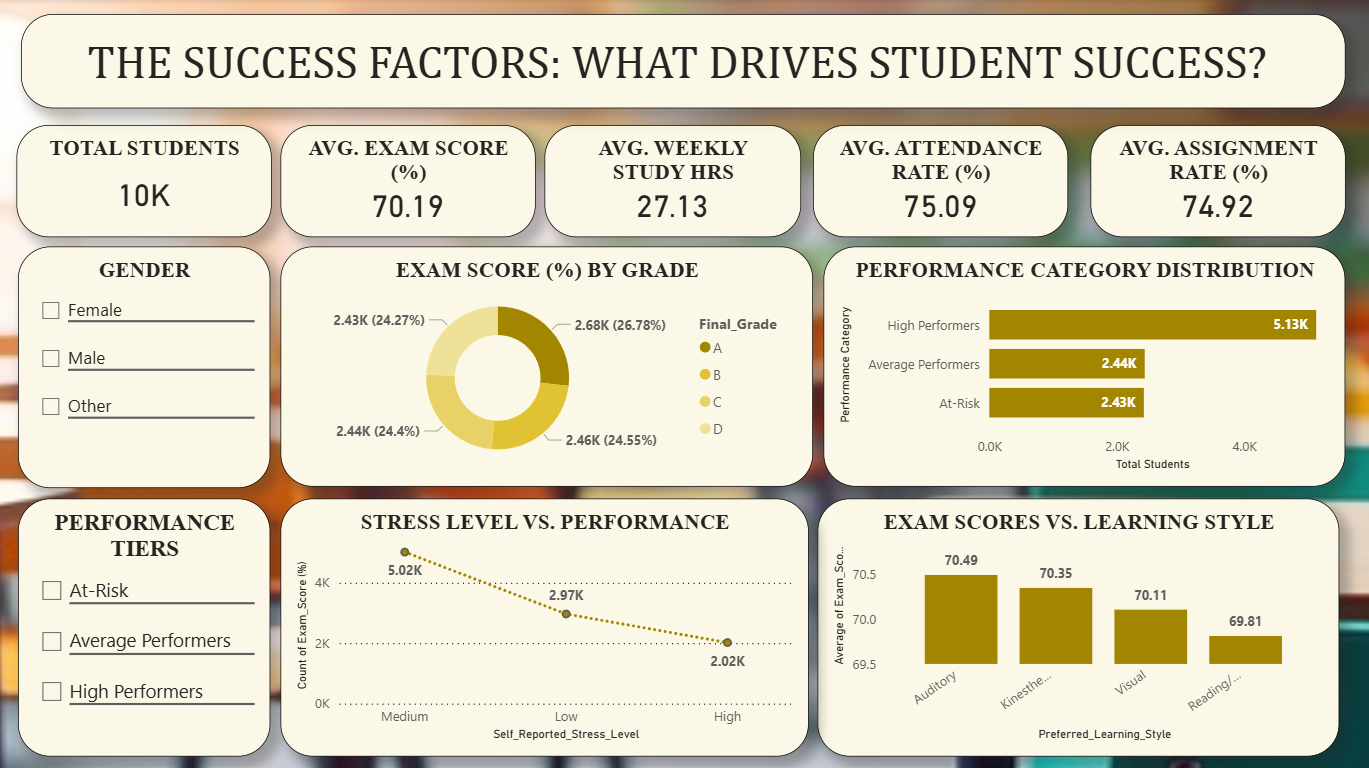

The dashboard page shown, as its layout file describes it:
{"tool":"powerbi","page":{"name":"Page 1","canvas":[1280,720],"ordinal":0},"visuals":[{"type":"card","title":"TOTAL STUDENTS","fields":{"Values":["Student Performance Dataset (Data Analyst Capstone Project -1).Total Students"]},"box":[18.2,117.5,237.8,104.9],"z":0},{"type":"card","title":"AVG. EXAM SCORE (%)","fields":{"Values":["Student Performance Dataset (Data Analyst Capstone Project -1).AVG. EXAM SCORE (%)"]},"box":[264.4,117.5,237.8,104.9],"z":1000},{"type":"card","title":"AVG. WEEKLY STUDY HRS","fields":{"Values":["Avg(Student Performance Dataset (Data Analyst Capstone Project -1).Study_Hours_per_Week)"]},"box":[510.6,117.5,239.2,104.9],"z":2000},{"type":"card","title":"AVG. ASSIGNMENT RATE (%)","fields":{"Values":["Avg(Student Performance Dataset (Data Analyst Capstone Project -1).Assignment_Completion_Rate (%))"]},"box":[1019.9,117.5,237.8,104.9],"z":3000},{"type":"card","title":"AVG. ATTENDANCE RATE (%)","fields":{"Values":["Avg(Student Performance Dataset (Data Analyst Capstone Project -1).Attendance_Rate (%))"]},"box":[761.1,117.5,237.8,104.9],"z":4000},{"type":"slicer","title":"GENDER","fields":{"Values":["Student Performance Dataset (Data Analyst Capstone Project -1).Gender"]},"box":[19.6,230.8,235,225.2],"z":5000},{"type":"donutChart","title":"EXAM SCORE (%) BY GRADE","fields":{"Y":["CountNonNull(Student Performance Dataset (Data Analyst Capstone Project -1).Exam_Score (%))"],"Category":["Student Performance Dataset (Data Analyst Capstone Project -1).Final_Grade"]},"box":[264.4,230.8,496.6,223.8],"z":6000},{"type":"clusteredBarChart","title":"PERFORMANCE CATEGORY DISTRIBUTION","fields":{"Y":["Student Performance Dataset (Data Analyst Capstone Project -1).Total Students"],"Category":["Student Performance Dataset (Data Analyst Capstone Project -1).Performance Category"]},"box":[770.8,230.8,486.8,223.8],"z":7000},{"type":"slicer","title":"PERFORMANCE TIERS","fields":{"Values":["Student Performance Dataset (Data Analyst Capstone Project -1).Performance Category"]},"box":[19.6,465.9,235,240.6],"z":8000},{"type":"clusteredColumnChart","title":"EXAM SCORES VS. LEARNING STYLE","fields":{"Y":["Avg(Student Performance Dataset (Data Analyst Capstone Project -1).Exam_Score (%))"],"Category":["Student Performance Dataset (Data Analyst Capstone Project -1).Preferred_Learning_Style"]},"box":[765.2,465.9,486.8,240.6],"z":9000},{"type":"lineChart","title":"STRESS LEVEL VS. PERFORMANCE","fields":{"Y":["CountNonNull(Student Performance Dataset (Data Analyst Capstone Project -1).Exam_Score (%))"],"Category":["Student Performance Dataset (Data Analyst Capstone Project -1).Self_Reported_Stress_Level"]},"box":[263.7,465.9,492.4,240.6],"z":10000},{"type":"textbox","box":[22.3,14,1235.3,88.1],"z":11000}]}

Visuals, with their boxes in screenshot pixels (x1, y1, x2, y2), scaled from the page's 1280x720 canvas onto the 1369x768 screenshot:
"TOTAL STUDENTS" card: BBox(19, 125, 274, 237)
"AVG. EXAM SCORE (%)" card: BBox(283, 125, 537, 237)
"AVG. WEEKLY STUDY HRS" card: BBox(546, 125, 802, 237)
"AVG. ASSIGNMENT RATE (%)" card: BBox(1091, 125, 1345, 237)
"AVG. ATTENDANCE RATE (%)" card: BBox(814, 125, 1068, 237)
"GENDER" slicer: BBox(21, 246, 272, 486)
"EXAM SCORE (%) BY GRADE" donutChart: BBox(283, 246, 814, 485)
"PERFORMANCE CATEGORY DISTRIBUTION" clusteredBarChart: BBox(824, 246, 1345, 485)
"PERFORMANCE TIERS" slicer: BBox(21, 497, 272, 754)
"EXAM SCORES VS. LEARNING STYLE" clusteredColumnChart: BBox(818, 497, 1339, 754)
"STRESS LEVEL VS. PERFORMANCE" lineChart: BBox(282, 497, 809, 754)
textbox: BBox(24, 15, 1345, 109)
